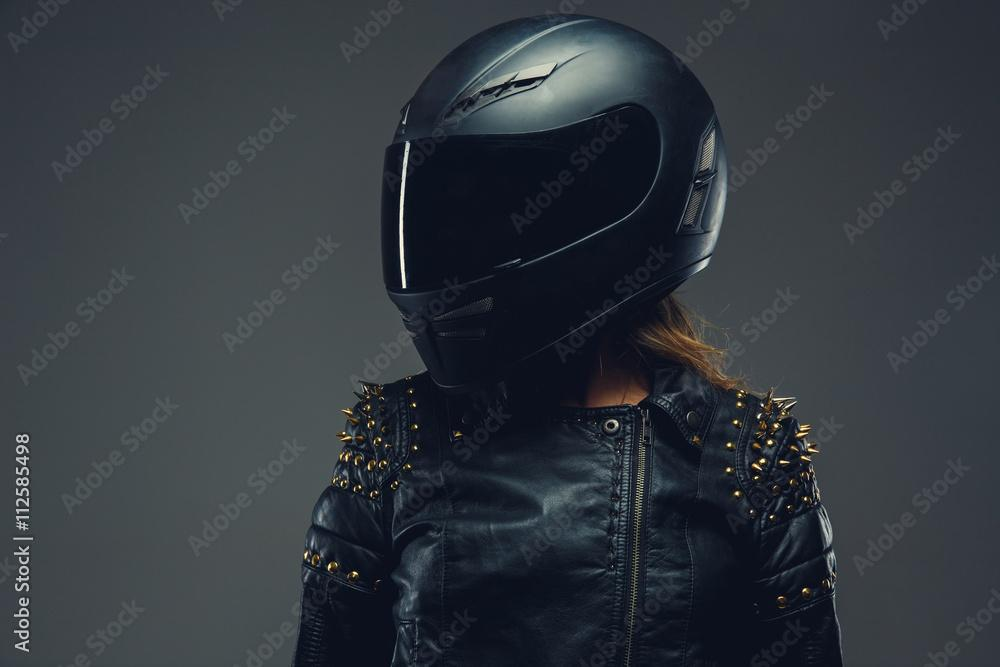helmet: (378, 10, 730, 399)
